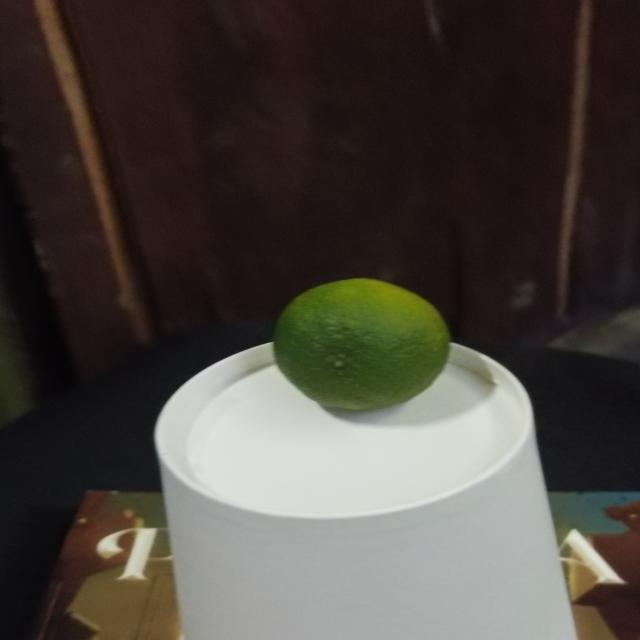heathy: (266, 272, 457, 415)
